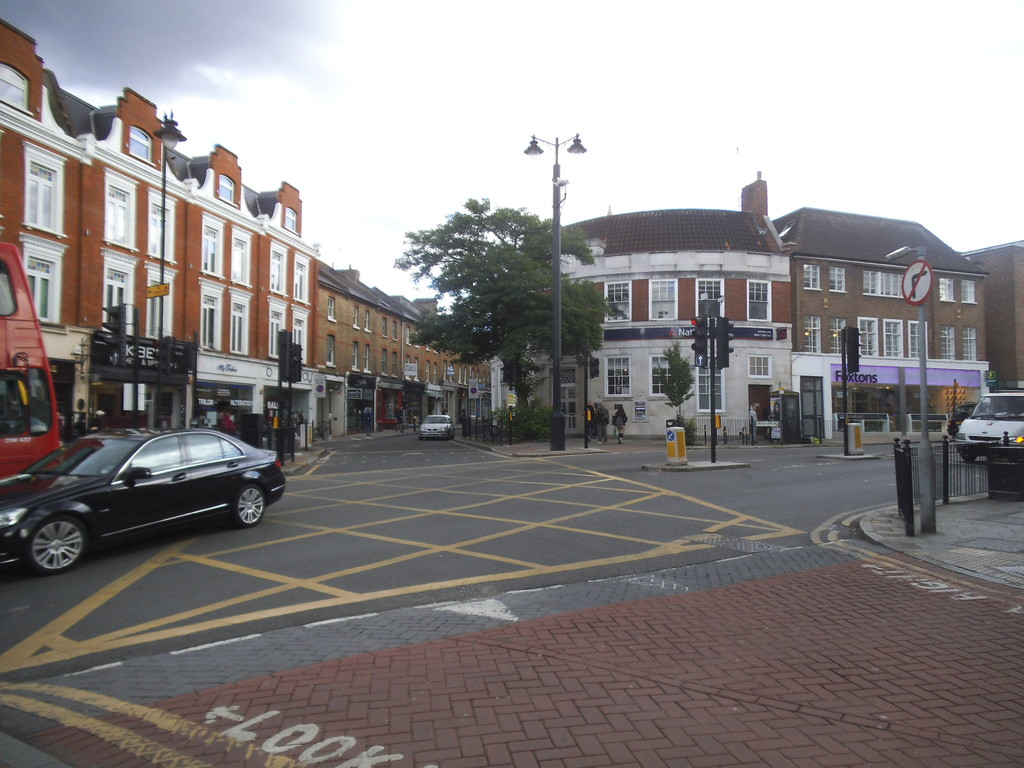Car: (0, 421, 284, 574), (417, 414, 453, 440)
